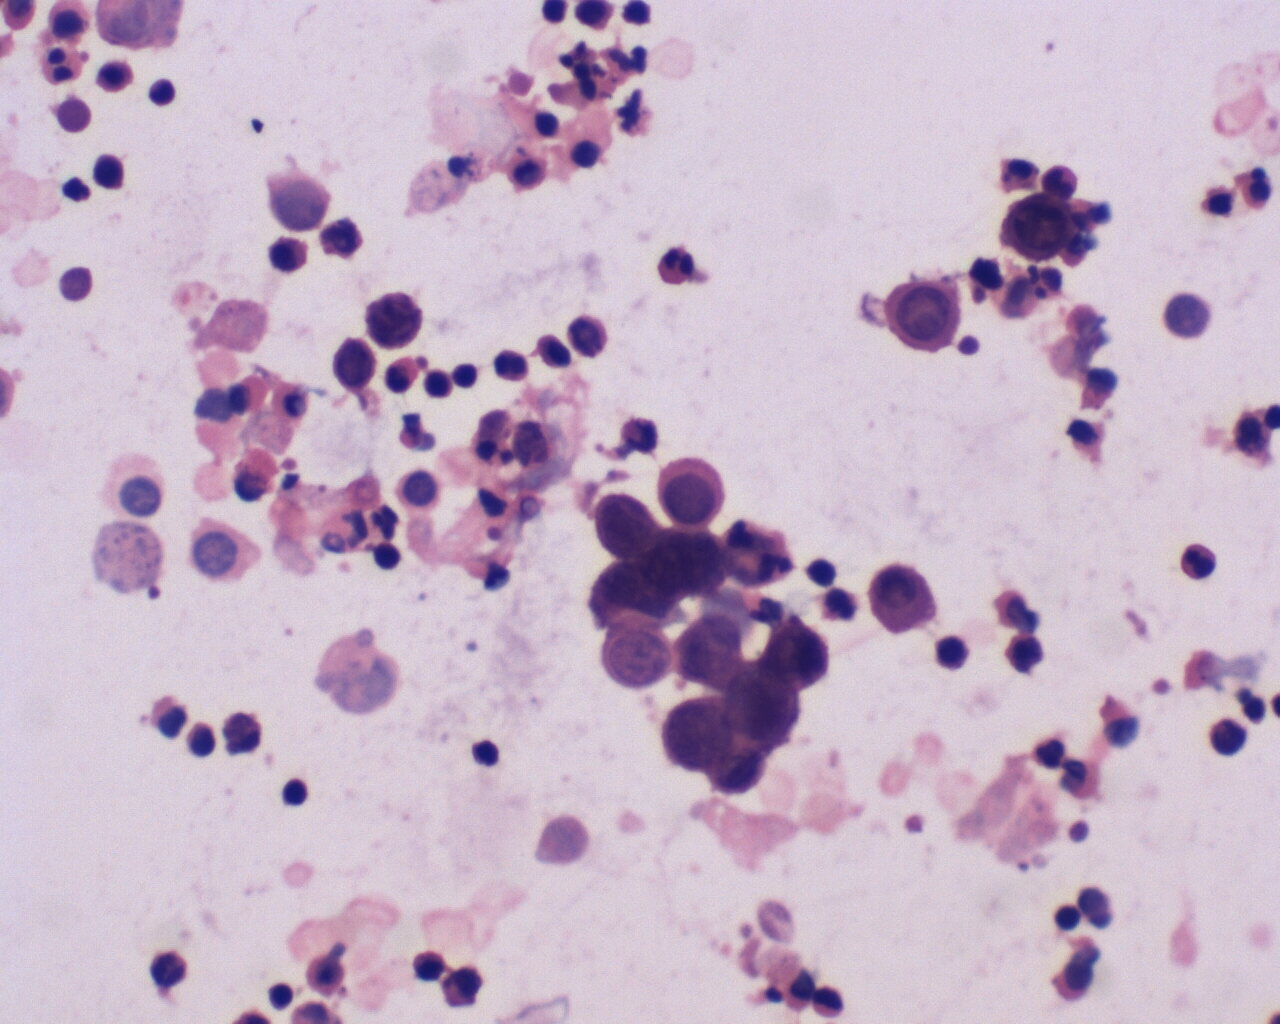ab: (598, 615, 676, 696), (725, 668, 808, 744), (885, 275, 962, 355), (862, 559, 937, 639), (661, 695, 734, 775), (761, 614, 833, 693), (658, 455, 732, 528), (1004, 190, 1075, 262), (592, 490, 661, 555), (364, 288, 427, 351)
lymph: (261, 975, 303, 1016), (143, 78, 187, 112), (451, 358, 487, 393), (279, 774, 316, 808)
neutro: (1171, 537, 1225, 586), (651, 243, 697, 290)
